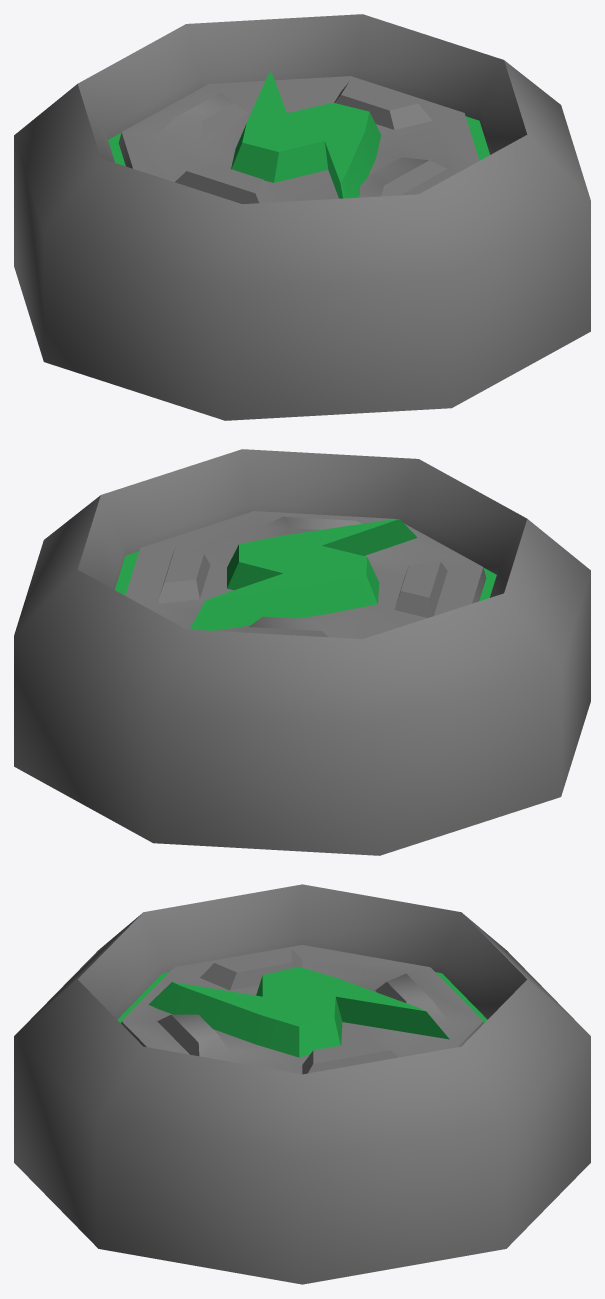
Rendered from partBattery.fbx.
3 renders of one model, top to bottom at view 1: azimuth 30°, elevation 25°; view 2: azimuth 150°, elevation 25°; view 3: azimuth 270°, elevation 25°, orthographic. The views are drawn at different scales.
Parts seen in each view (by area): view 1: meshBattery; view 2: meshBattery; view 3: meshBattery.
Part boxes in pixels (x1,y1,x2,y2): meshBattery: (14, 14, 590, 420); meshBattery: (14, 449, 590, 855); meshBattery: (14, 884, 590, 1284).
Size of the model in its own units: 200 by 70.11 by 200.
